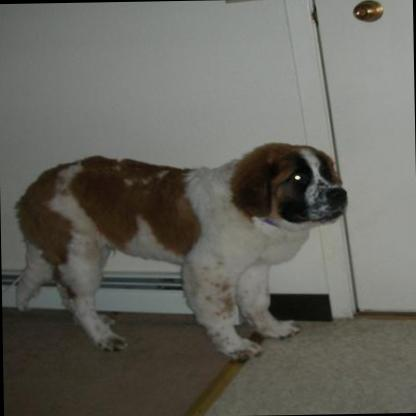Saint_Bernard: (10, 135, 350, 364)
